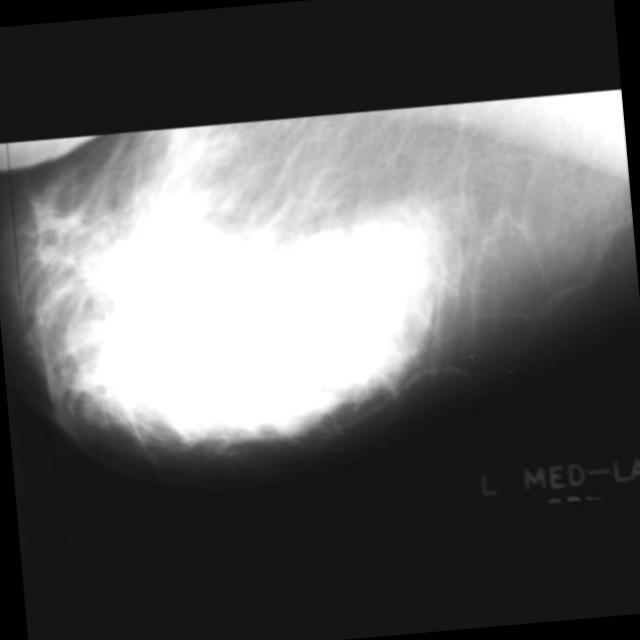ASYM: (108, 264, 242, 396)
